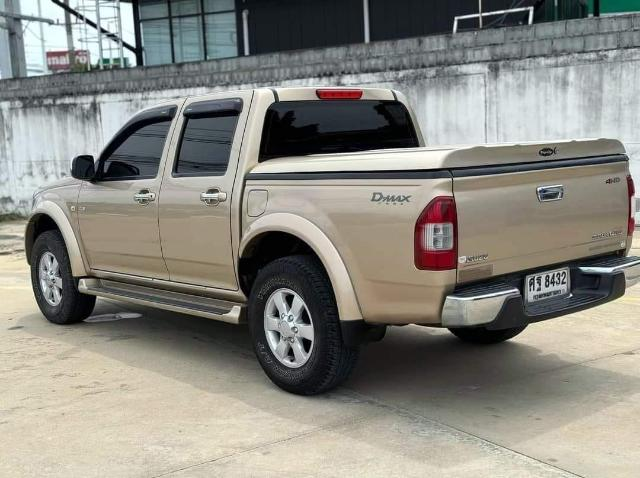pickup-truck: (18, 77, 640, 406)
